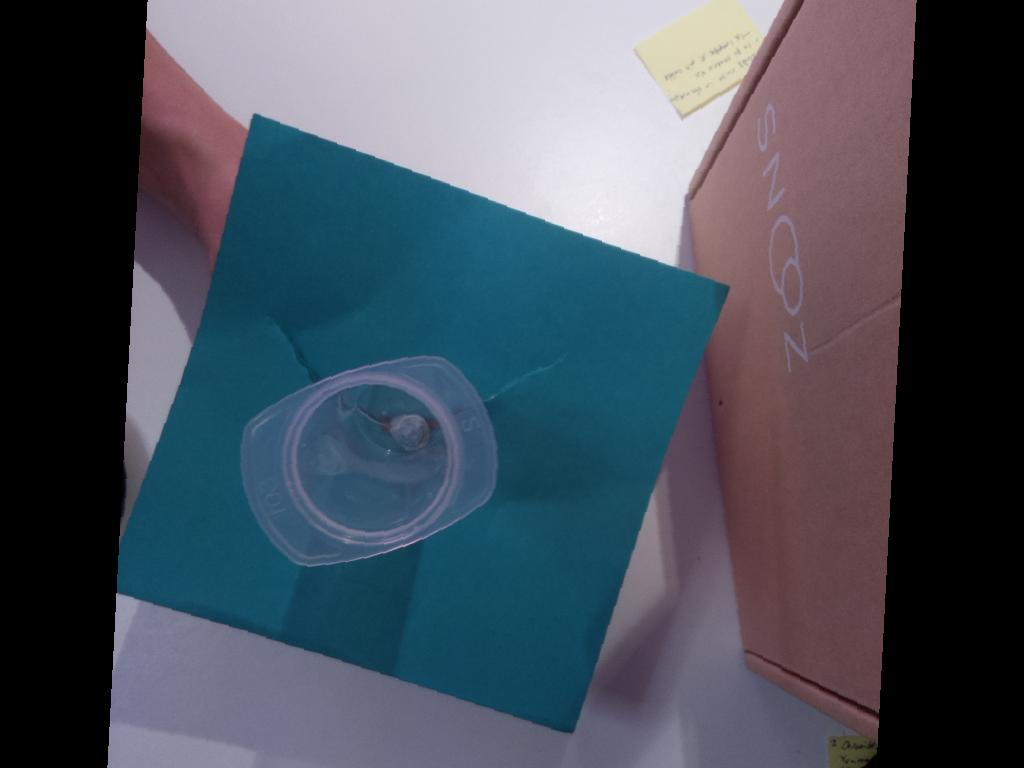clean: (238, 356, 498, 566)
